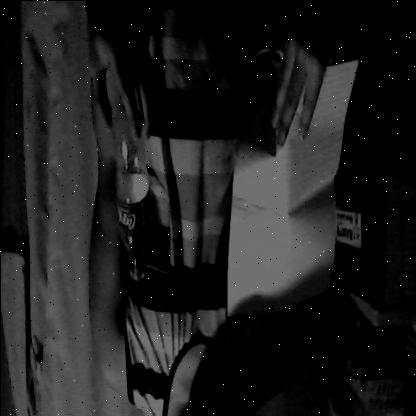Plastic Bottle: (106, 85, 157, 289)
